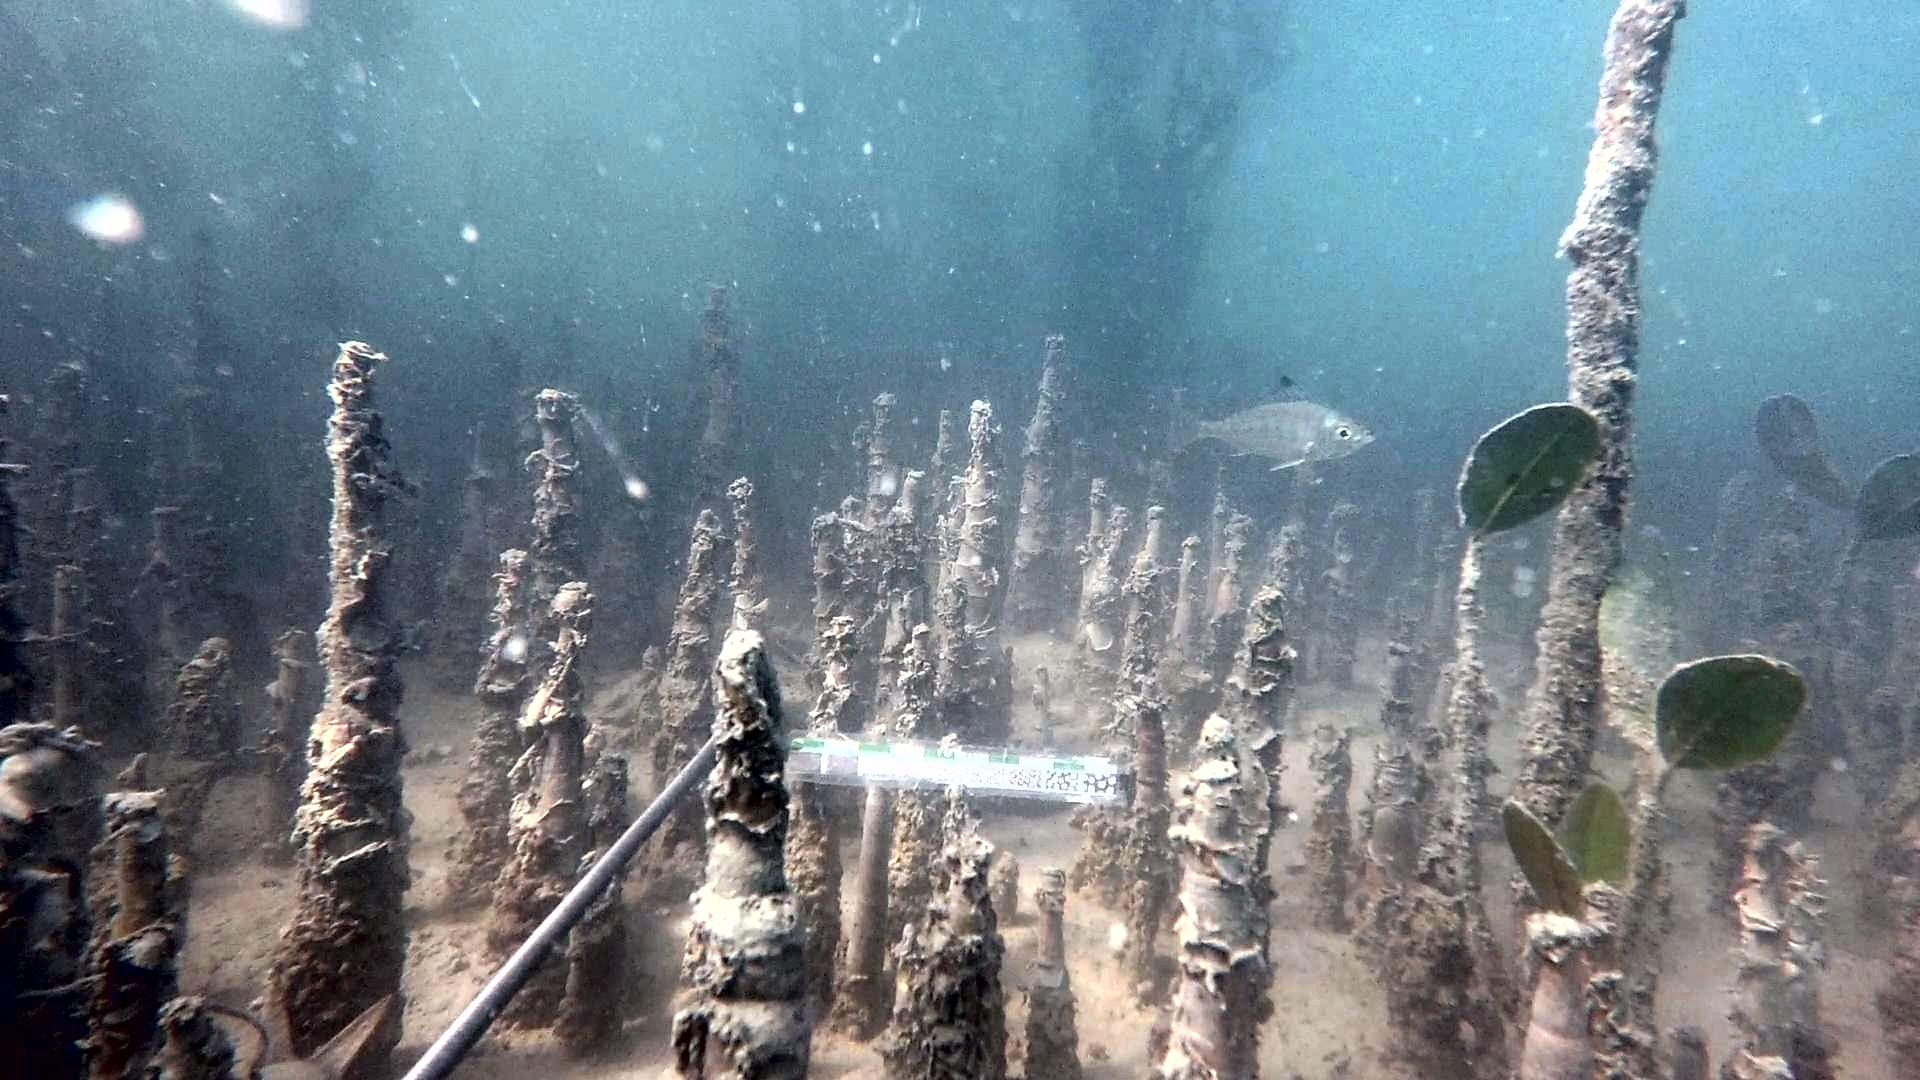gerres: (1159, 373, 1381, 474)
